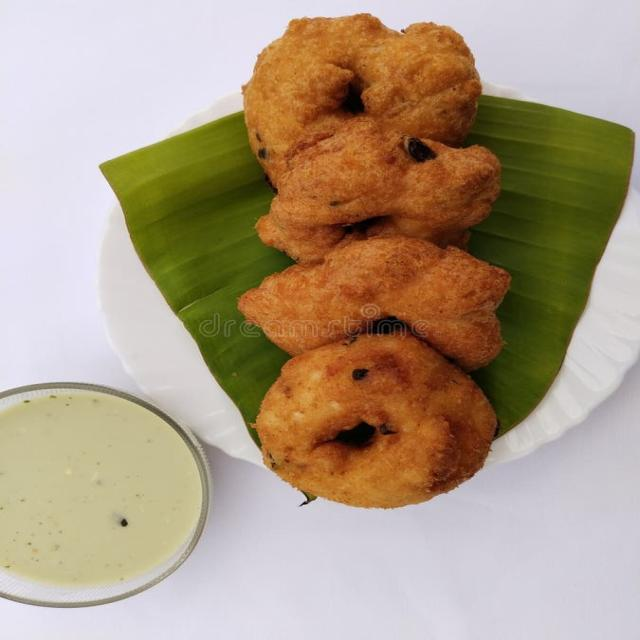MEDU VADA: (235, 13, 518, 507)
